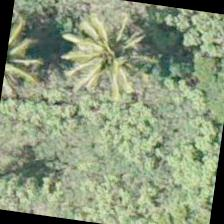Kelapa_Sawit: (52, 0, 155, 101), (0, 127, 61, 216)
